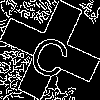C: (25, 25, 78, 82)
